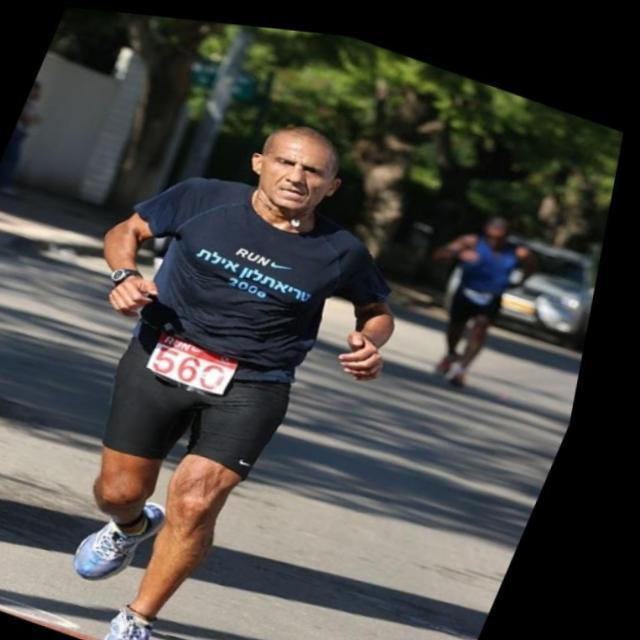dorsal: (149, 322, 260, 396)
